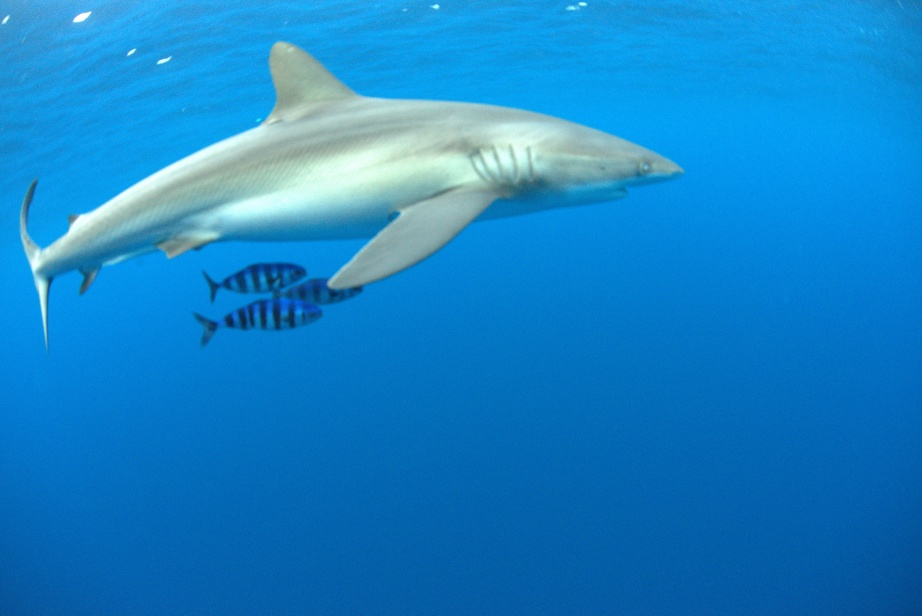Sedoso: (1, 35, 699, 346)
